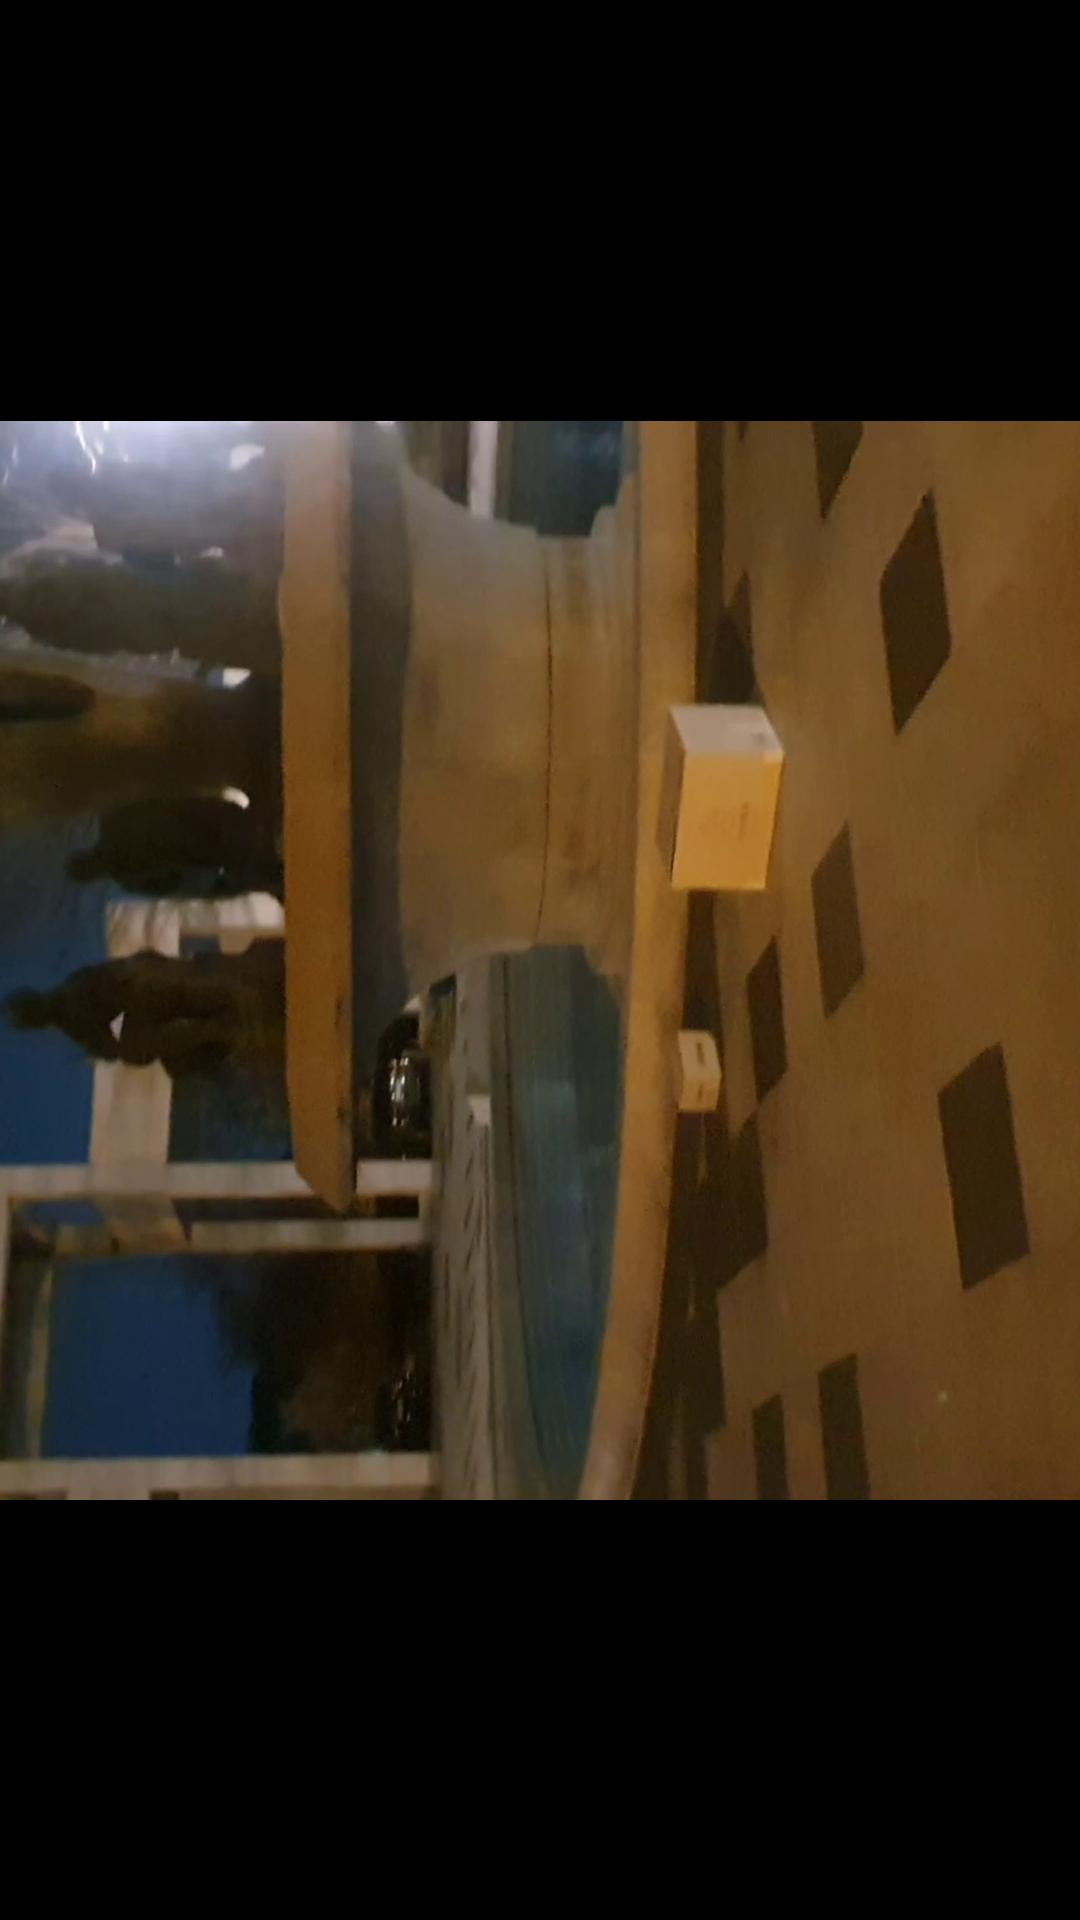Box: (645, 691, 800, 902), (658, 1017, 738, 1129)
